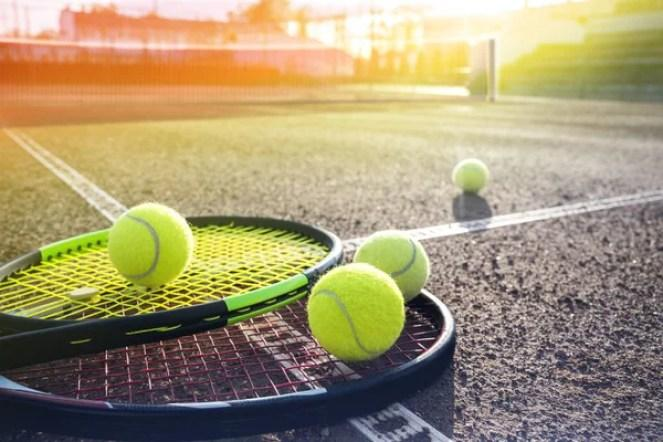ball_tennis: (306, 262, 408, 359), (107, 202, 196, 291), (354, 230, 431, 301), (453, 158, 490, 196)
